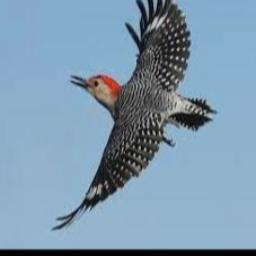Woodpecker: (50, 0, 218, 231)
